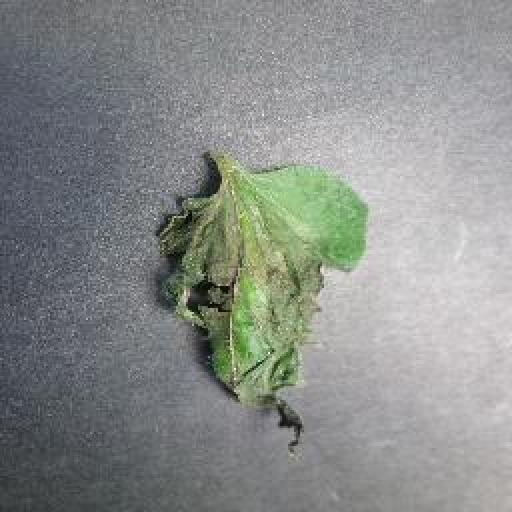disease_tomato: (144, 160, 372, 460)
